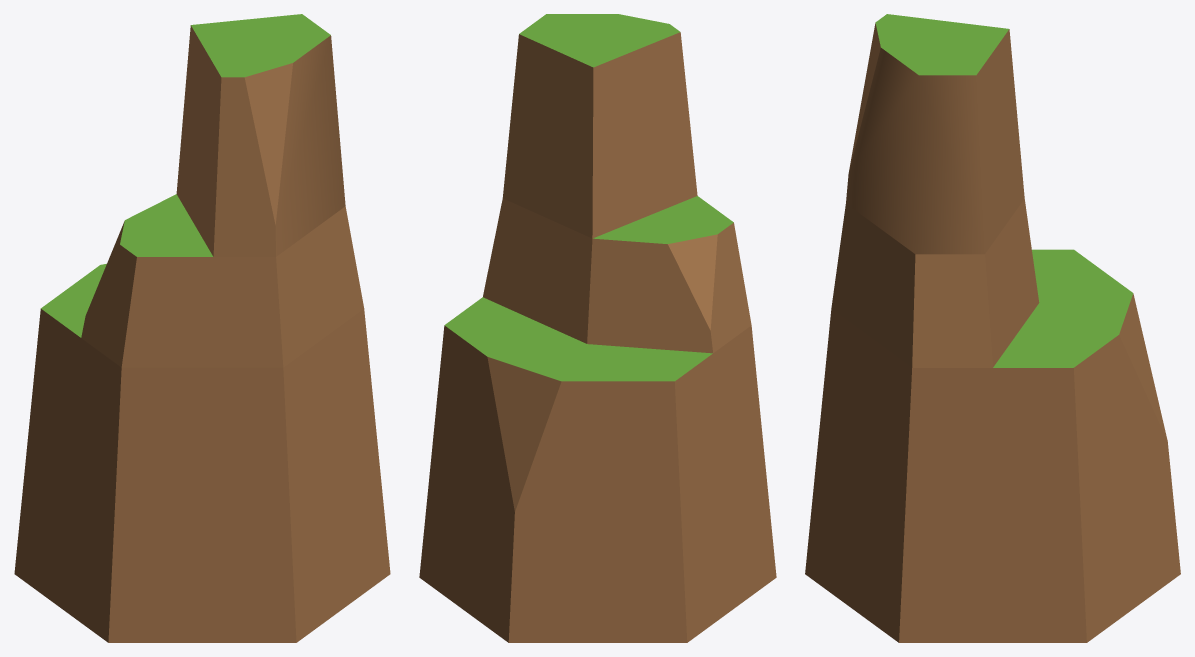
Rendered from rock_tallG.glb.
3 views of the same model, side by side, from view 1: azimuth 30°, elevation 25°; view 2: azimuth 150°, elevation 25°; view 3: azimuth 270°, elevation 25° (orthographic). The views are drawn at different scales.
Visible parts, largest first — view 1: rock_tallG; view 2: rock_tallG; view 3: rock_tallG.
Part boxes in pixels (<box>): rock_tallG: <box>14,14,390,642</box>; rock_tallG: <box>419,14,776,642</box>; rock_tallG: <box>805,14,1180,642</box>.
Bounding box in the file's own units: 0.4249 × 0.7829 × 0.4907.
